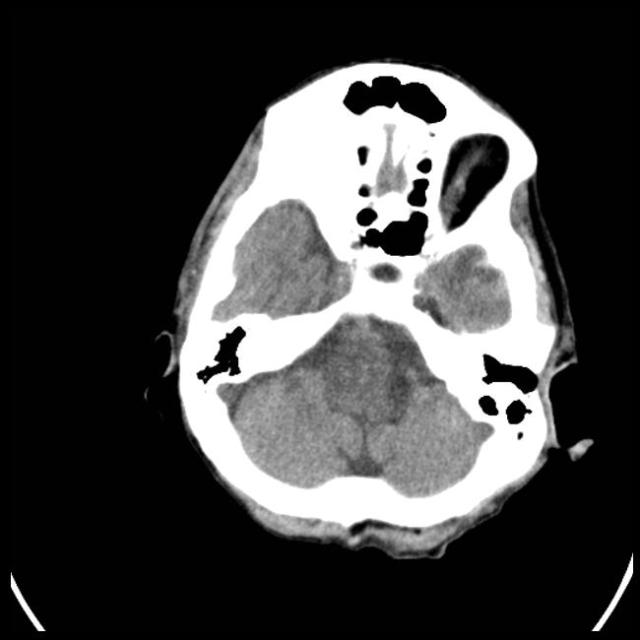lesion: (158, 56, 592, 561)
